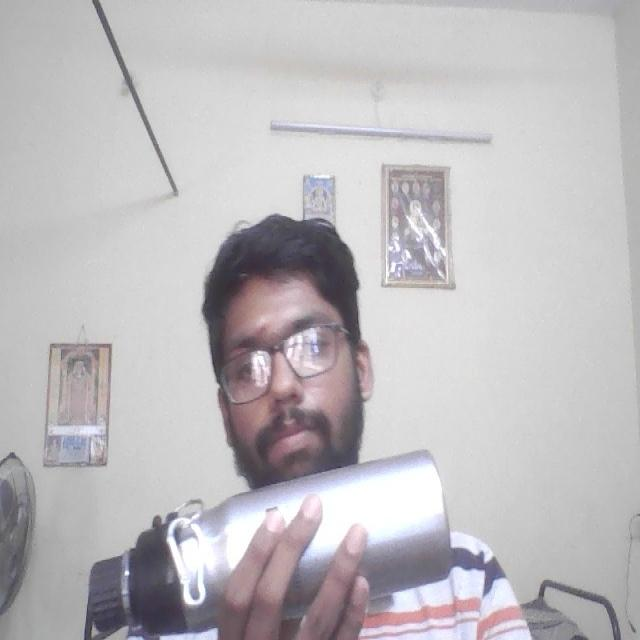Drinking: (82, 430, 461, 640)
